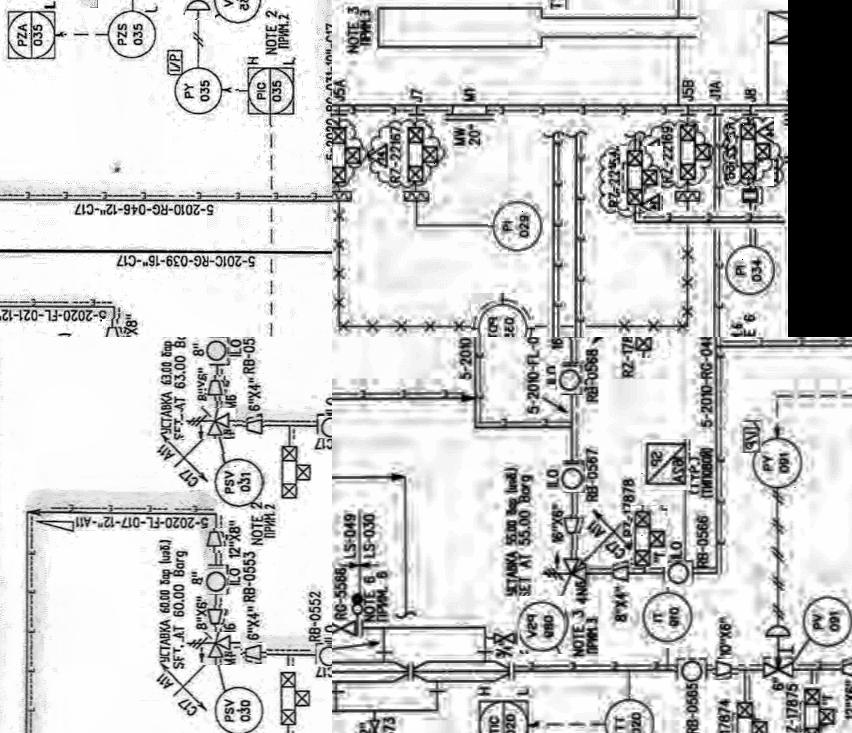2 WAY VALVE: (730, 116, 776, 185), (401, 121, 445, 192), (616, 143, 663, 209), (271, 440, 314, 506), (273, 666, 310, 732), (630, 502, 668, 566), (677, 122, 715, 183), (332, 126, 367, 186), (800, 683, 838, 733), (735, 697, 770, 733), (631, 337, 669, 357)
ANGLE RELIEF VALVE: (180, 632, 239, 664), (180, 406, 236, 438), (542, 550, 587, 588)
CONCENTRIC REDUCER: (712, 658, 740, 679), (205, 374, 227, 400), (242, 642, 266, 664), (204, 528, 226, 552), (560, 514, 586, 534), (608, 562, 634, 582), (204, 604, 227, 626), (241, 414, 264, 434), (103, 316, 124, 337)
DCS ACCESSIBLE: (239, 58, 300, 123), (0, 5, 60, 63), (469, 689, 533, 733)
DIAPHRAGM SEAL: (672, 185, 707, 208), (754, 156, 780, 182)
END CAP: (762, 620, 794, 640), (182, 0, 212, 18), (186, 0, 213, 17)
END FLANGED: (363, 138, 393, 172)
FIELD INSTRUMENT: (638, 584, 692, 646), (488, 195, 544, 252), (722, 239, 776, 298), (103, 10, 160, 64), (799, 592, 852, 650), (752, 436, 804, 494), (471, 290, 535, 337), (214, 453, 264, 509), (520, 594, 566, 652), (211, 683, 262, 733), (170, 64, 222, 113), (597, 694, 660, 733), (215, 0, 263, 25), (556, 362, 588, 394), (674, 654, 706, 682), (560, 460, 586, 492), (201, 566, 229, 592), (664, 560, 692, 584), (204, 337, 229, 360), (315, 645, 332, 667), (317, 413, 332, 437)
GATE VALVE: (757, 655, 798, 683), (486, 624, 519, 648), (332, 615, 358, 640), (364, 715, 381, 733)
IP CONVERTER: (739, 419, 761, 452)
REVISION TRIANGLE: (640, 129, 666, 162)
SPECIAL PIPING ITEM: (639, 438, 690, 489)
SPECTACLE BLIND OPEN: (349, 584, 364, 632)
